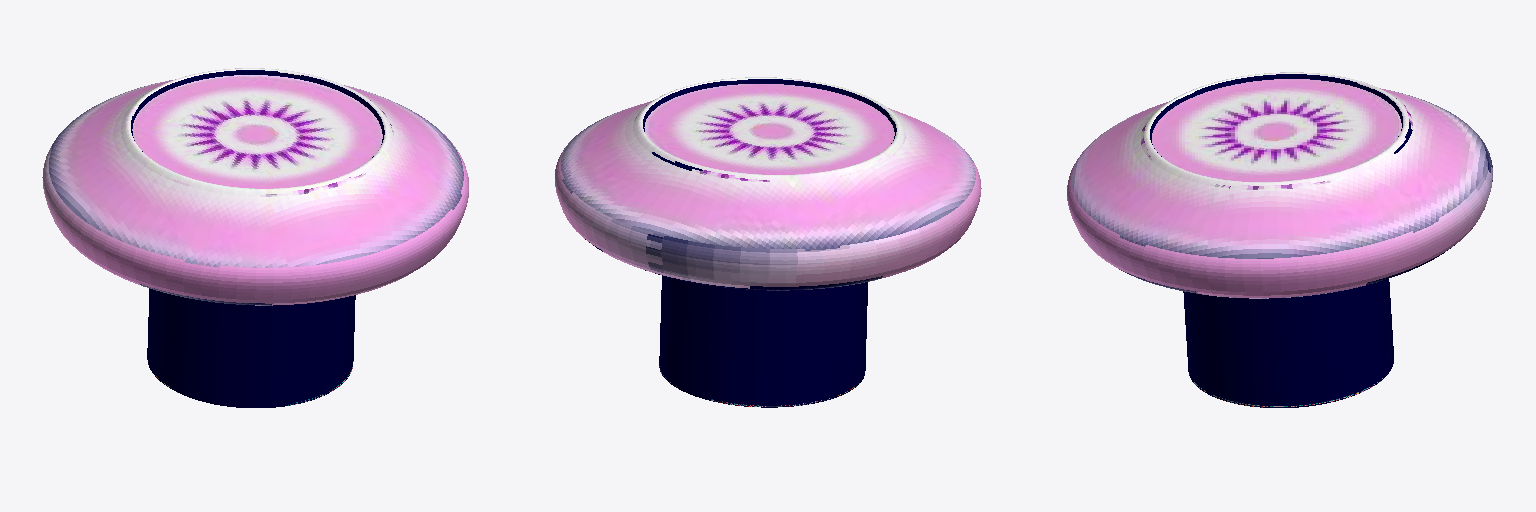
The picture shows the model from 3 angles: view 1: azimuth 30°, elevation 25°; view 2: azimuth 150°, elevation 25°; view 3: azimuth 270°, elevation 25°; orthographic projection.
Parts seen in each view (by area): view 1: ARCHMODELS_47_050_30; view 2: ARCHMODELS_47_050_30; view 3: ARCHMODELS_47_050_30.
Boxes of the visible parts, box(x1,y1,x2,y2) form: ARCHMODELS_47_050_30: box(42, 68, 468, 407); ARCHMODELS_47_050_30: box(555, 77, 981, 407); ARCHMODELS_47_050_30: box(1067, 72, 1492, 407).
Size of the model in its own units: 1.19 by 0.8324 by 1.19.
Materials: 2 (2 with a texture image).